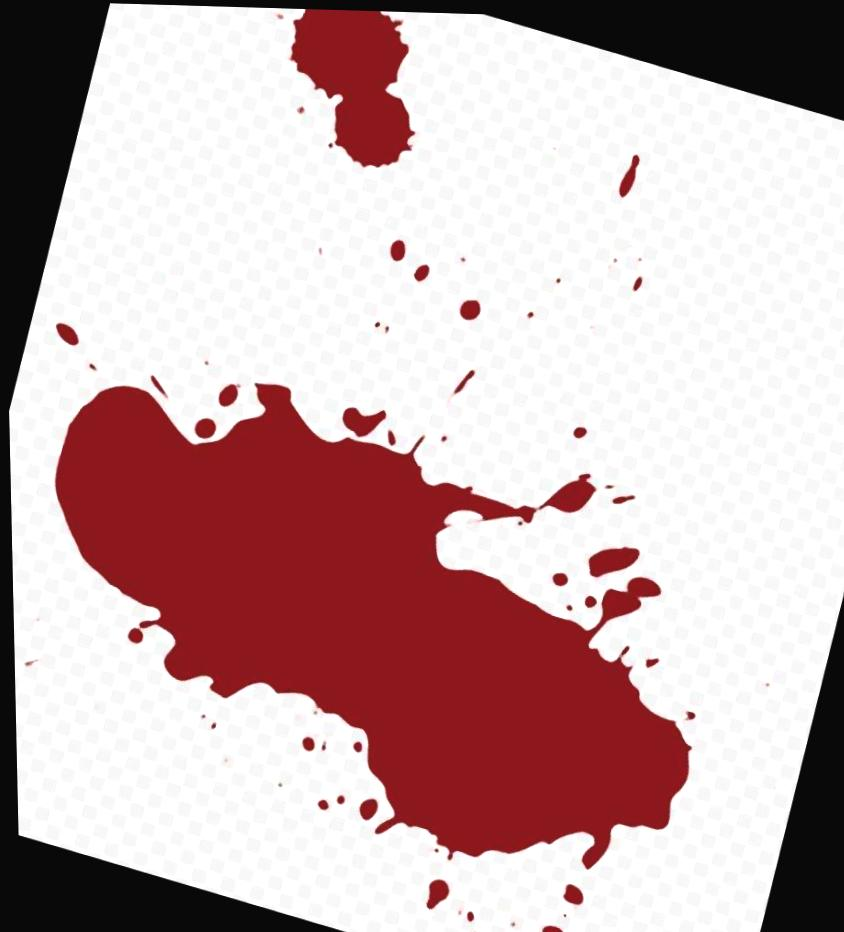Fire: (52, 381, 692, 867), (287, 7, 416, 169)
